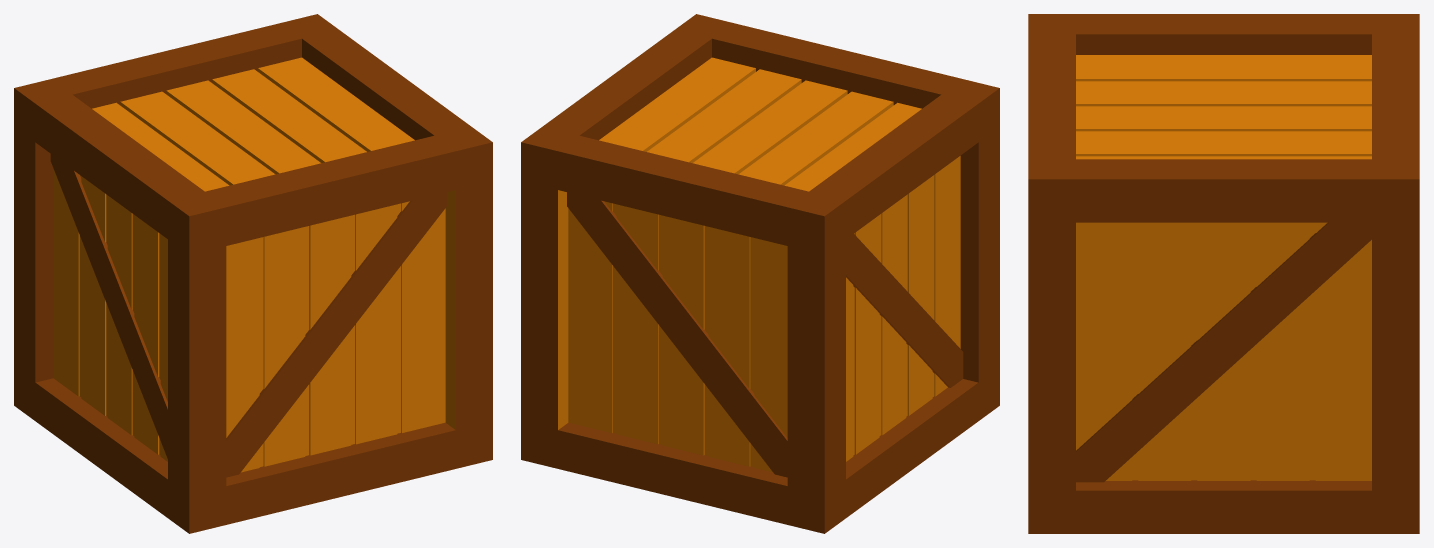
File: woodbox_001.fbx
3 views of the same model, side by side, from view 1: azimuth 30°, elevation 25°; view 2: azimuth 150°, elevation 25°; view 3: azimuth 270°, elevation 25° (orthographic). The views are drawn at different scales.
Visible parts, largest first — view 1: woodbox.002; view 2: woodbox.002; view 3: woodbox.002.
Boxes of the visible parts, x1,y1,x2,y2 form: woodbox.002: (14,14,492,533); woodbox.002: (521,14,999,533); woodbox.002: (1028,14,1419,533).
Size of the model in its own units: 21.8 by 21.8 by 21.8.
